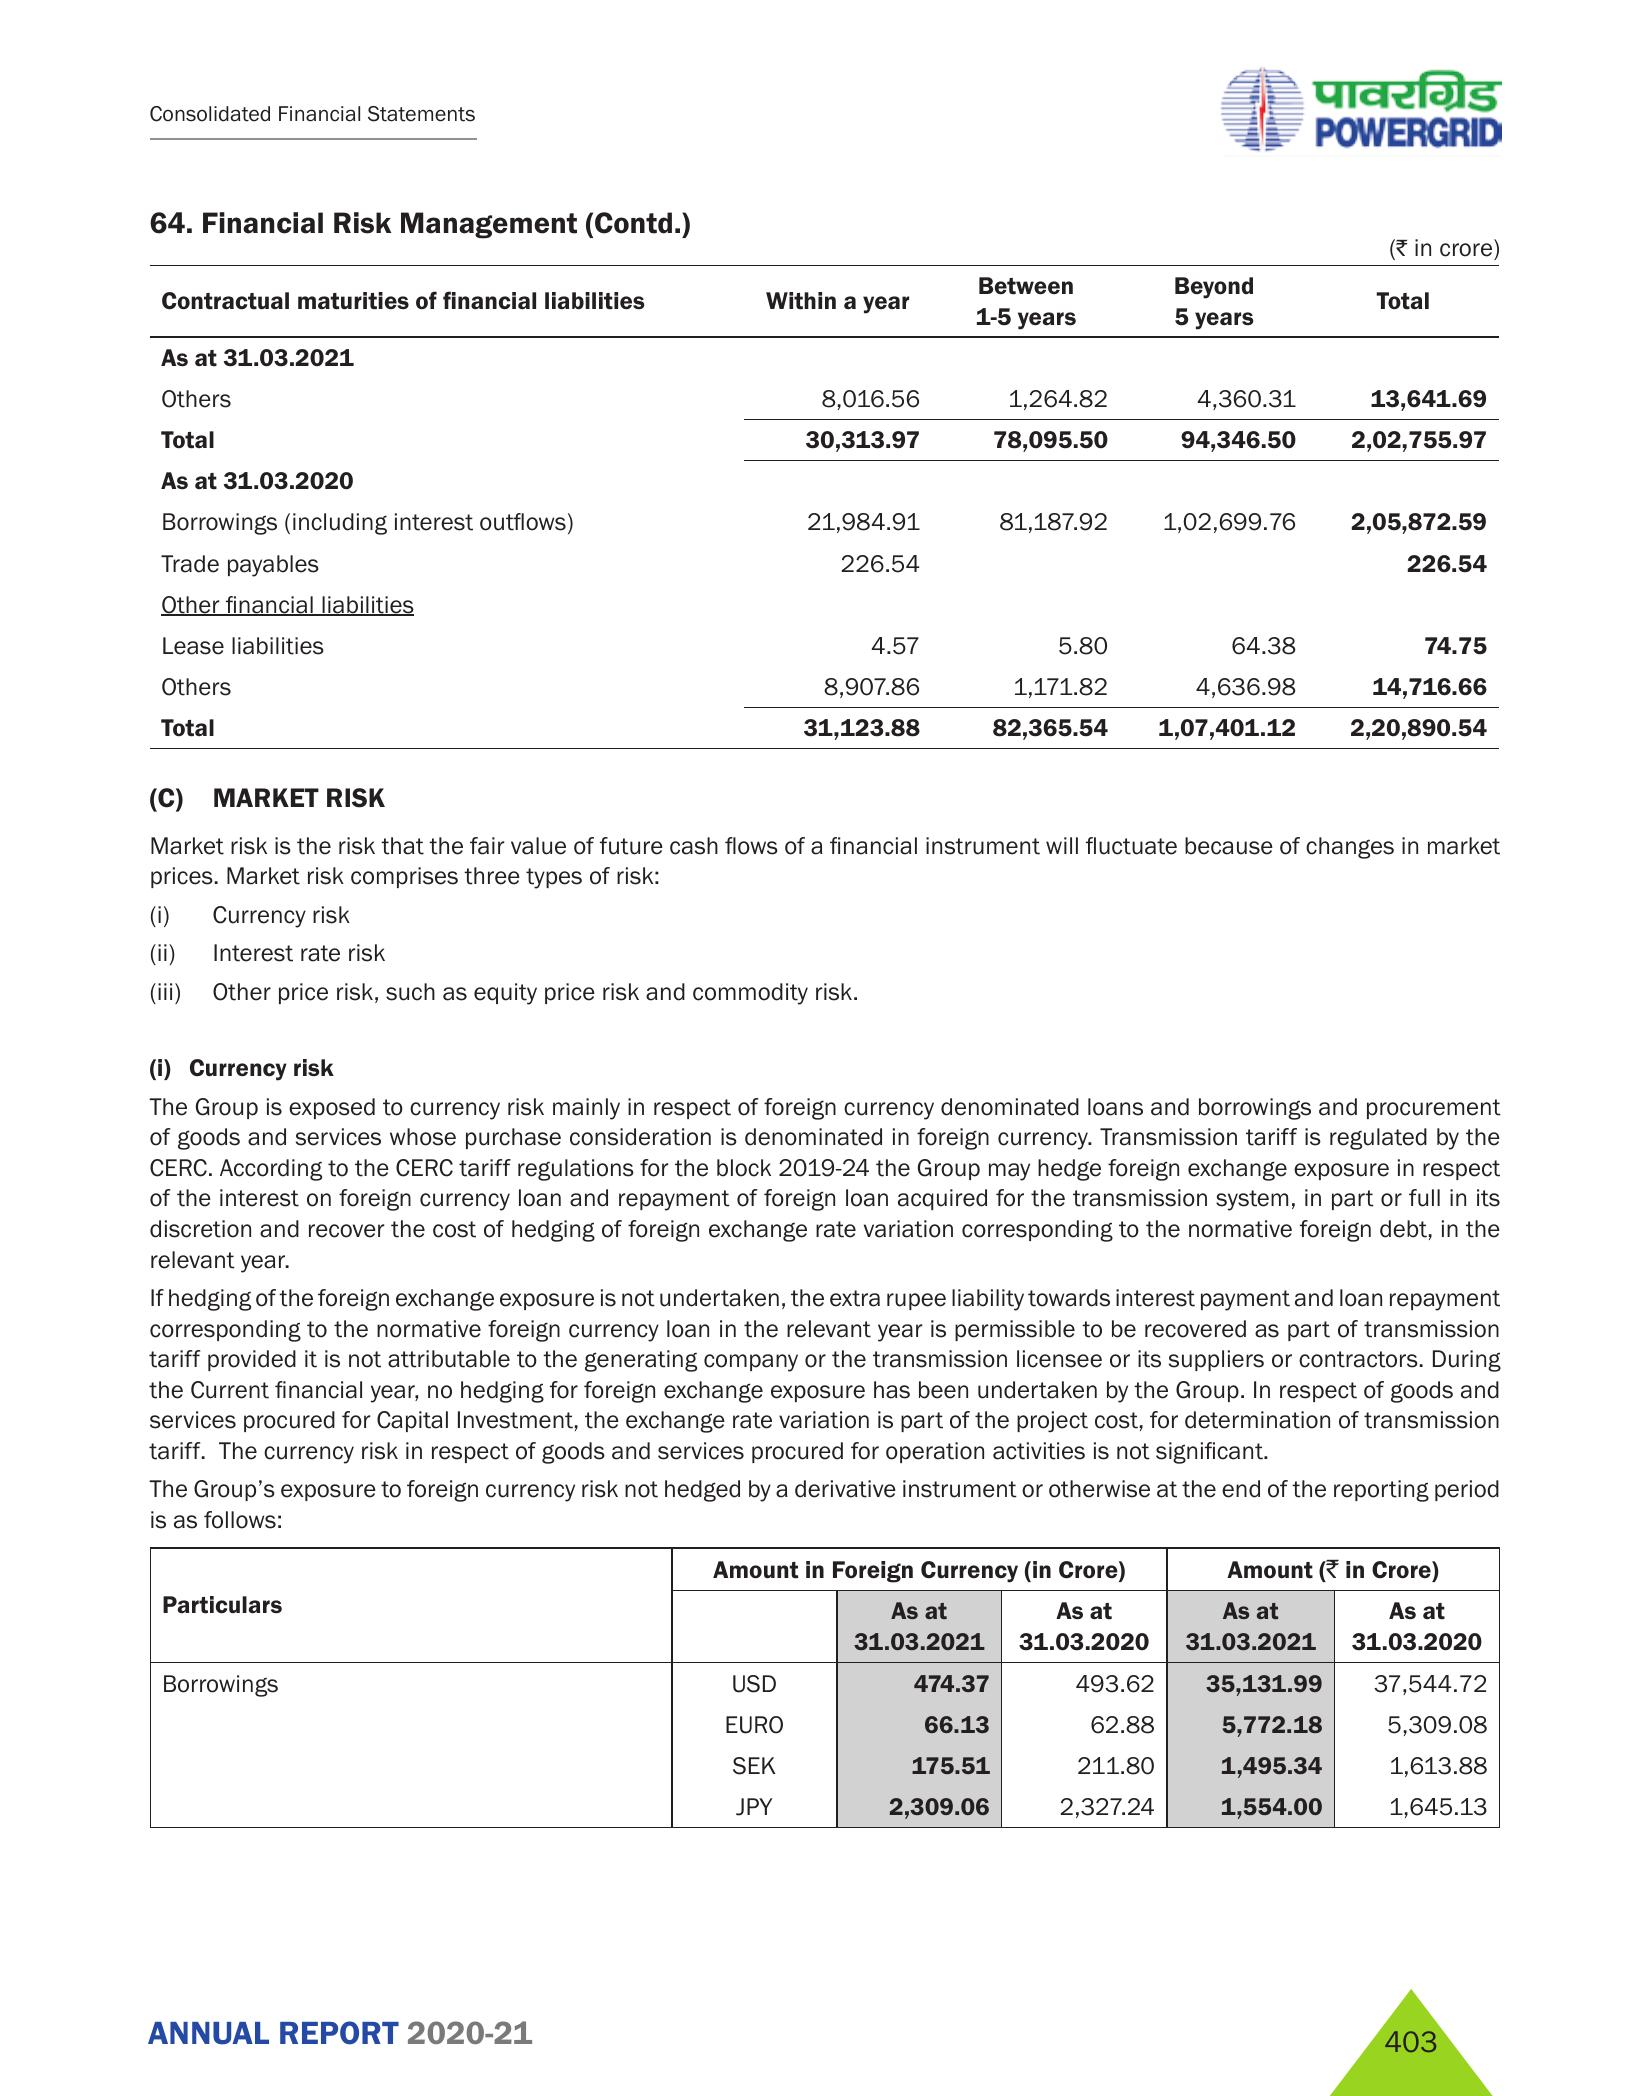Footer: (0, 1965, 1650, 2096)
Header: (0, 0, 1650, 184)
Table: (122, 260, 1545, 764), (139, 1540, 1516, 1839)
